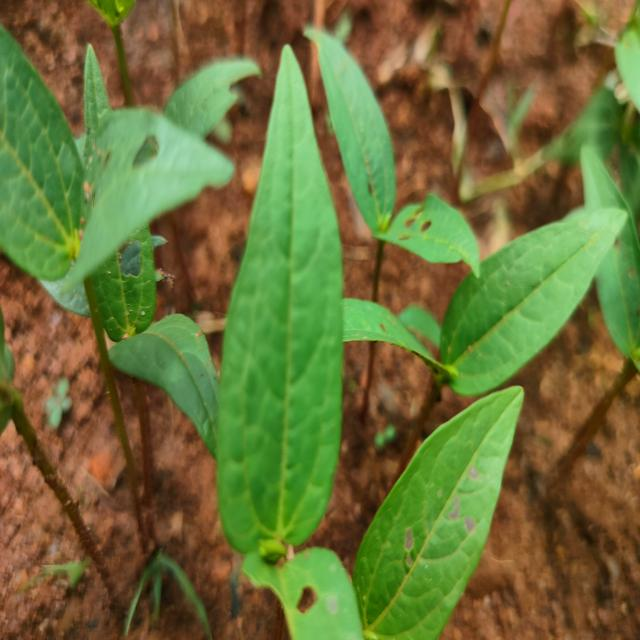Black gram_healthy: (216, 40, 342, 542), (355, 387, 525, 640), (443, 203, 628, 391)
